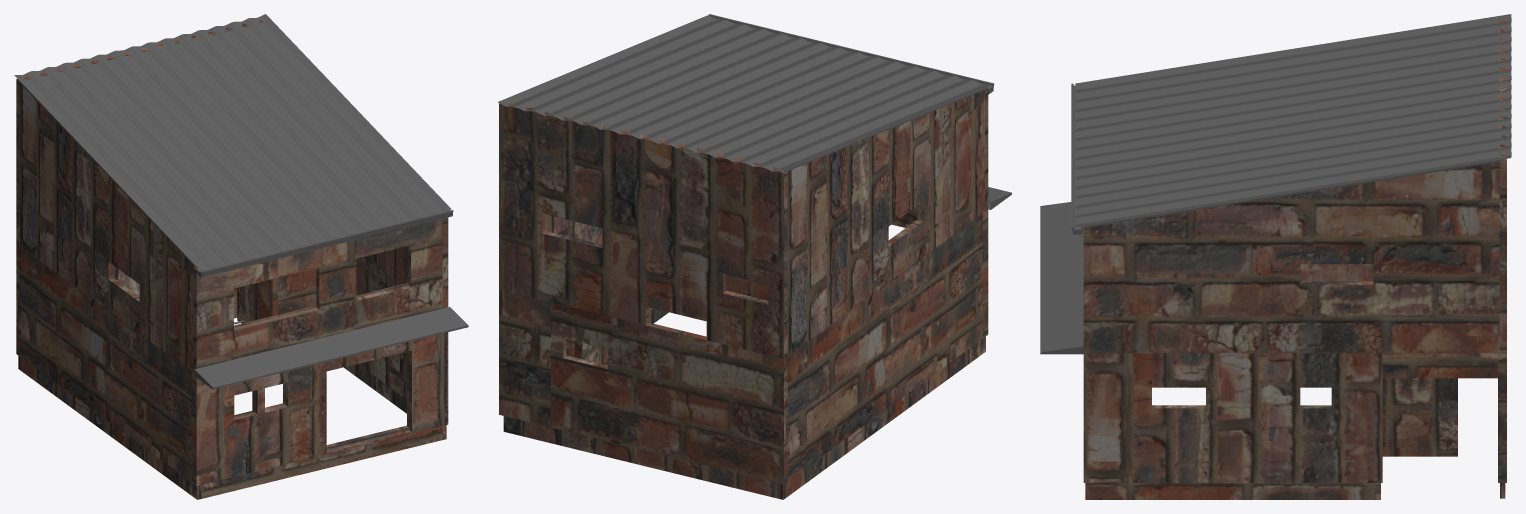
File: Lowpolisample.glb
The picture shows the model from 3 angles, left to right: view 1: azimuth 30°, elevation 25°; view 2: azimuth 150°, elevation 25°; view 3: azimuth 270°, elevation 25°; orthographic projection. The views are drawn at different scales.
Parts seen in each view (by area): view 1: オブジェクト_254, オブジェクト_1877; view 2: オブジェクト_254, オブジェクト_1877; view 3: オブジェクト_254, オブジェクト_1877.
Boxes of the visible parts, x1=… form: オブジェクト_254: x1=16, y1=19, x2=448, y2=499; オブジェクト_1877: x1=14, y1=14, x2=468, y2=389; オブジェクト_254: x1=499, y1=89, x2=988, y2=499; オブジェクト_1877: x1=497, y1=14, x2=1011, y2=209; オブジェクト_254: x1=1083, y1=19, x2=1506, y2=499; オブジェクト_1877: x1=1040, y1=14, x2=1511, y2=354.
Bounding box in the file's own units: 7.6 × 8.3 × 10.35.
2 materials, 1 textured.
